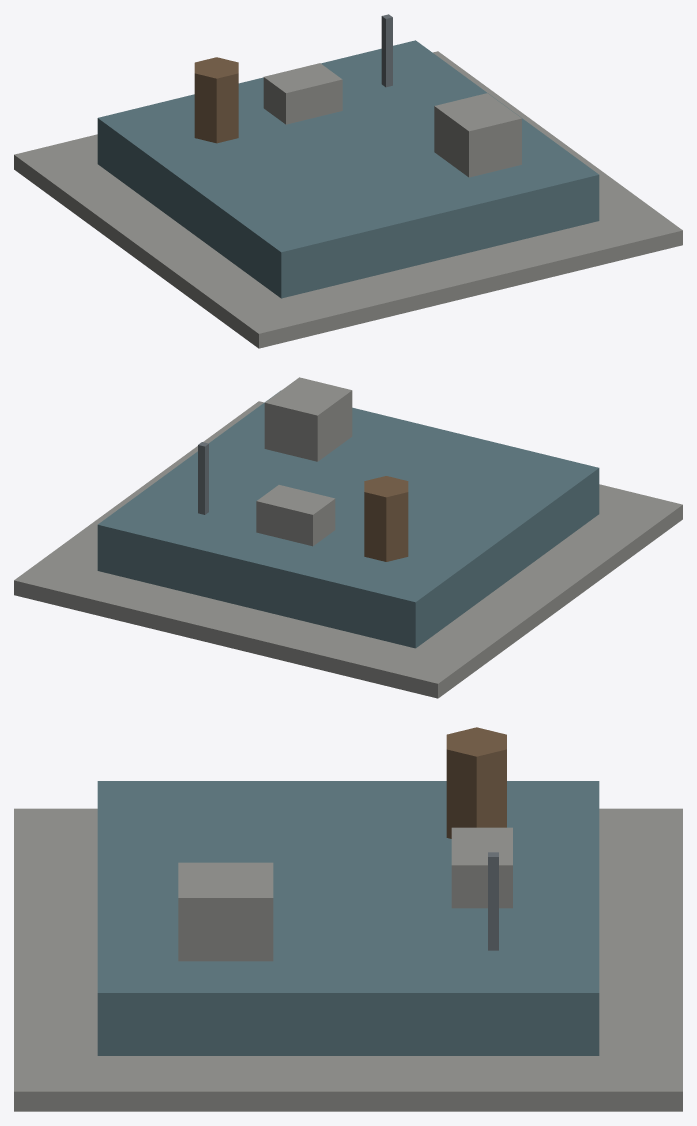
Rendered from tw_glass_24_crown_lod1.glb.
The picture shows the model from 3 angles, top to bottom: view 1: azimuth 30°, elevation 25°; view 2: azimuth 150°, elevation 25°; view 3: azimuth 270°, elevation 25°; orthographic projection. The views are drawn at different scales.
Parts seen in each view (by area): view 1: tw_glass_24_crown_lod1; view 2: tw_glass_24_crown_lod1; view 3: tw_glass_24_crown_lod1.
Part boxes in pixels (x1,y1,x2,y2): tw_glass_24_crown_lod1: (14, 14, 682, 348); tw_glass_24_crown_lod1: (14, 377, 682, 698); tw_glass_24_crown_lod1: (14, 727, 682, 1111).
Bounding box in the file's own units: 24 × 7 × 24.
3 materials, 3 textured.
